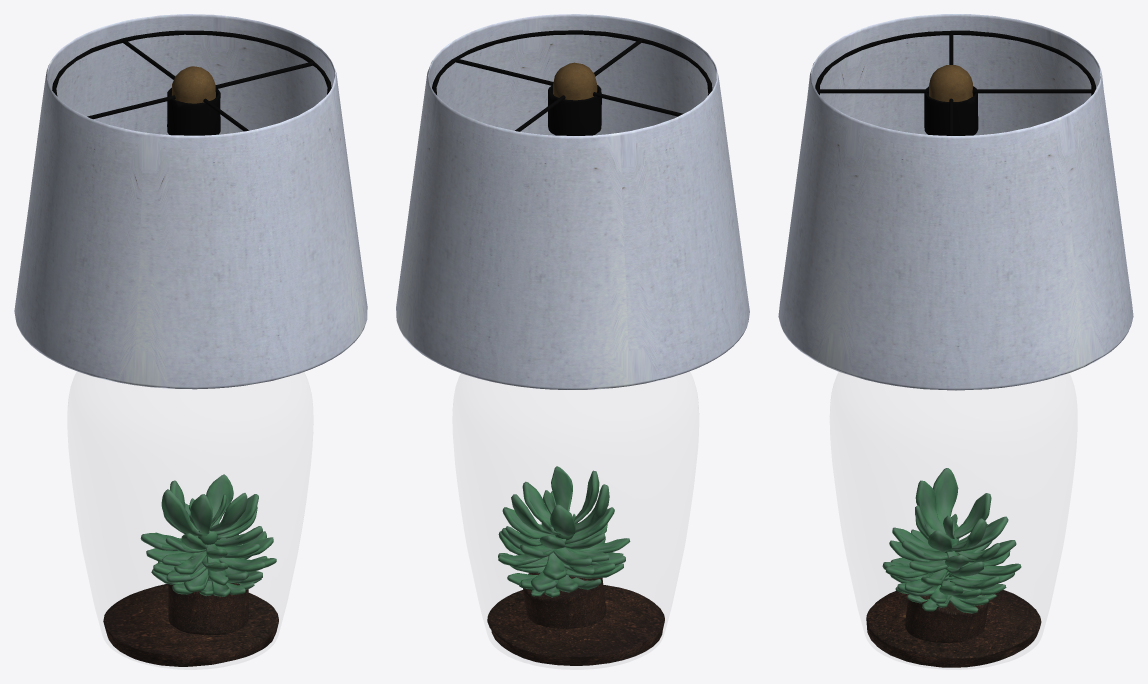
Rendered from glass_vase.glb.
3 renders of one model, left to right at view 1: azimuth 30°, elevation 25°; view 2: azimuth 150°, elevation 25°; view 3: azimuth 270°, elevation 25°, orthographic.
Visible parts, largest first — view 1: not_clear_obj_2_v6, not_clear_obj_5_v6, not_clear_obj_3_v6, not_clear_obj_0_v6, not_clear_obj_1_v6; view 2: not_clear_obj_2_v6, not_clear_obj_5_v6, not_clear_obj_3_v6, not_clear_obj_0_v6, not_clear_obj_1_v6; view 3: not_clear_obj_2_v6, not_clear_obj_3_v6, not_clear_obj_5_v6, not_clear_obj_0_v6, not_clear_obj_1_v6.
Boxes of the visible parts, bbox=[...] form: not_clear_obj_2_v6: bbox=[14, 14, 367, 389]; not_clear_obj_5_v6: bbox=[103, 583, 278, 666]; not_clear_obj_3_v6: bbox=[140, 474, 276, 596]; not_clear_obj_0_v6: bbox=[52, 30, 331, 135]; not_clear_obj_1_v6: bbox=[172, 66, 215, 103]; not_clear_obj_2_v6: bbox=[396, 14, 749, 389]; not_clear_obj_5_v6: bbox=[487, 569, 664, 665]; not_clear_obj_3_v6: bbox=[498, 466, 630, 597]; not_clear_obj_0_v6: bbox=[432, 30, 712, 135]; not_clear_obj_1_v6: bbox=[553, 62, 597, 100]; not_clear_obj_2_v6: bbox=[778, 14, 1133, 390]; not_clear_obj_3_v6: bbox=[882, 468, 1021, 613]; not_clear_obj_5_v6: bbox=[866, 589, 1041, 667]; not_clear_obj_0_v6: bbox=[815, 30, 1096, 135]; not_clear_obj_1_v6: bbox=[929, 65, 972, 101].
Bounding box in the file's own units: 0.3294 × 0.5843 × 0.3309.
7 materials, 5 textured.
